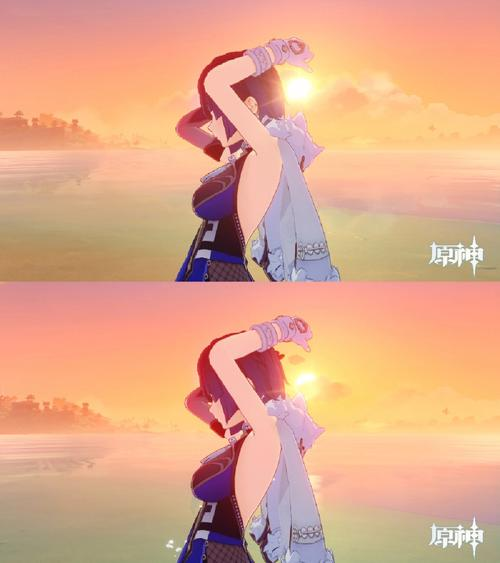夜兰: (160, 319, 341, 563), (167, 36, 344, 281)
